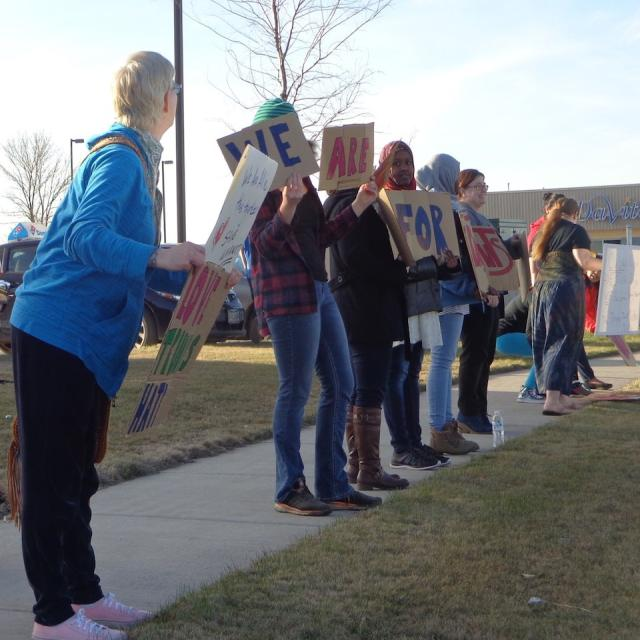body: (6, 50, 242, 639), (215, 97, 384, 517), (322, 180, 413, 491), (374, 140, 452, 470), (411, 151, 488, 455), (453, 168, 524, 435), (530, 197, 606, 418), (496, 180, 562, 407), (570, 249, 614, 396)
